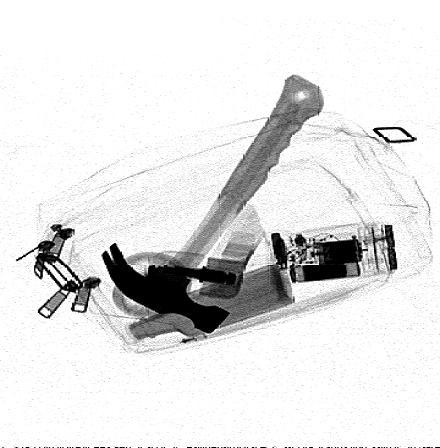Hammer: (100, 72, 326, 334)
